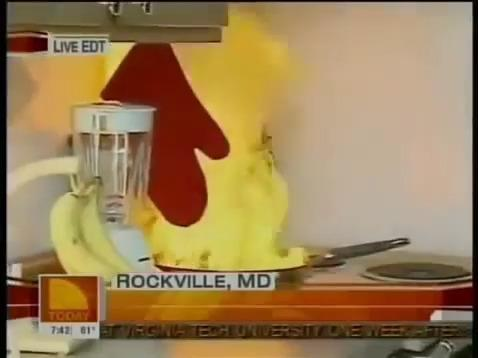fire: (101, 6, 311, 271)
